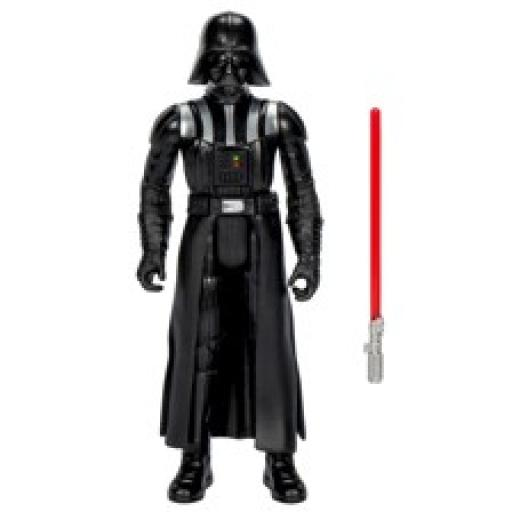human: (136, 12, 324, 505)
sith saber: (367, 107, 389, 391)
